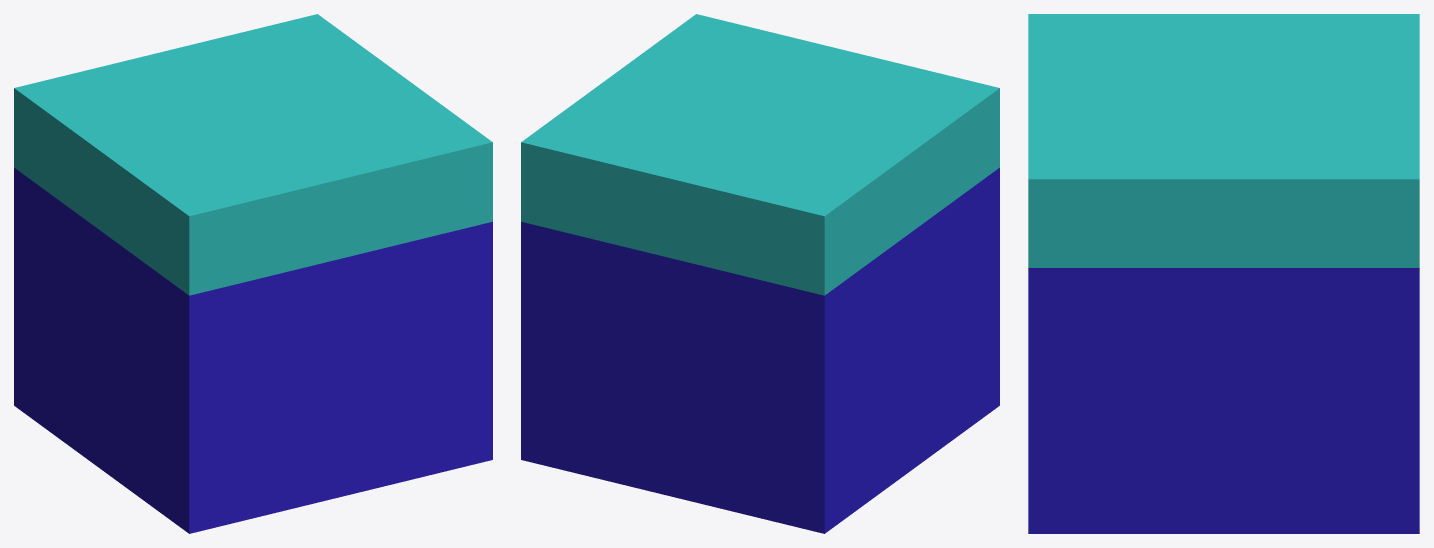
Rendered from creator.fbx.
3 views of the same model, side by side, from view 1: azimuth 30°, elevation 25°; view 2: azimuth 150°, elevation 25°; view 3: azimuth 270°, elevation 25° (orthographic). The views are drawn at different scales.
Visible parts, largest first — view 1: Cube; view 2: Cube; view 3: Cube.
Boxes of the visible parts, bbox=[...] form: Cube: bbox=[14, 14, 492, 533]; Cube: bbox=[521, 14, 999, 533]; Cube: bbox=[1028, 14, 1419, 533].
Size of the model in its own units: 20 by 20 by 20.
